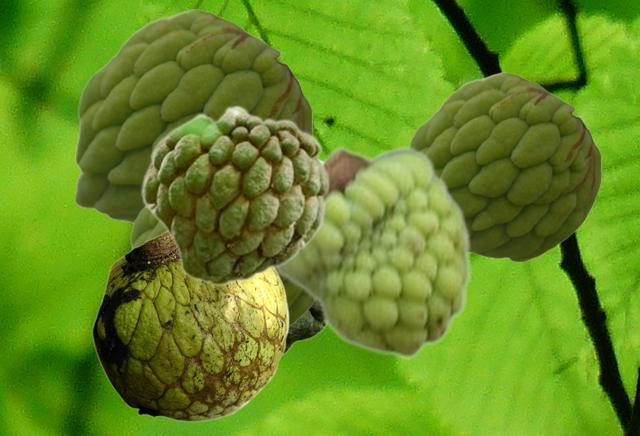atis: (74, 9, 311, 225), (274, 144, 472, 360), (91, 231, 288, 421), (407, 72, 600, 261), (139, 104, 329, 285), (128, 206, 315, 328), (283, 303, 325, 355)
